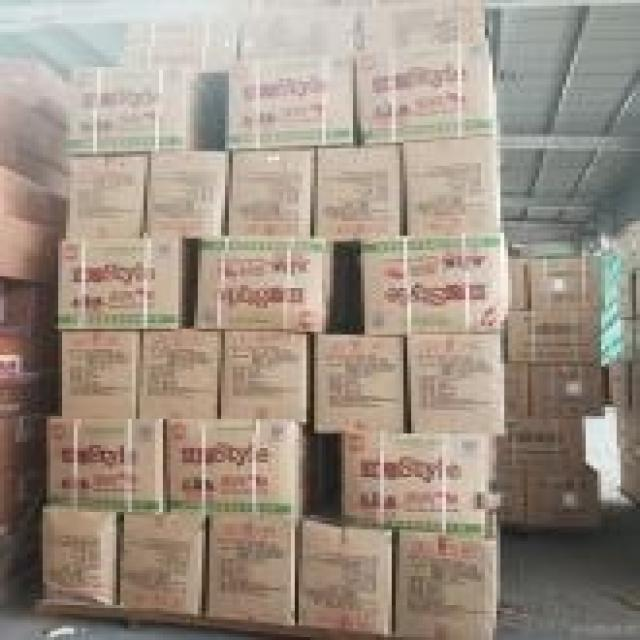box: (167, 416, 334, 515), (334, 433, 500, 532), (357, 230, 512, 335), (357, 44, 496, 145), (74, 67, 221, 157), (225, 55, 361, 151), (194, 241, 337, 332), (299, 503, 396, 634), (58, 241, 194, 329), (43, 416, 167, 512), (120, 9, 240, 105), (396, 529, 496, 640), (403, 335, 508, 436), (202, 515, 295, 625), (403, 134, 504, 233), (310, 335, 407, 436), (120, 506, 206, 617), (221, 148, 322, 239), (314, 143, 403, 239), (221, 332, 310, 425), (0, 166, 70, 282), (43, 506, 124, 605), (140, 326, 225, 419), (0, 93, 74, 195), (58, 329, 140, 419), (147, 145, 225, 239), (66, 154, 151, 239), (240, 0, 357, 61), (349, 3, 485, 52), (493, 463, 601, 524), (0, 61, 74, 131), (512, 308, 601, 364), (512, 256, 601, 311), (528, 361, 605, 416), (500, 416, 586, 465), (0, 332, 54, 410), (0, 410, 58, 471), (0, 471, 47, 535), (0, 285, 54, 340), (504, 361, 528, 416)
